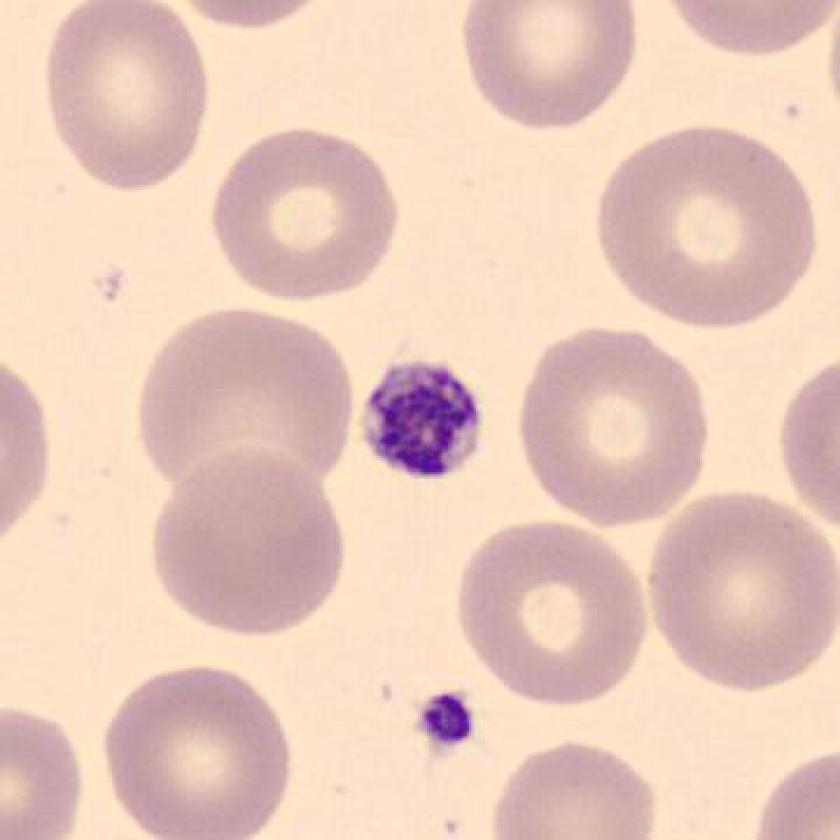platelets: (354, 351, 487, 485), (416, 686, 482, 760)
